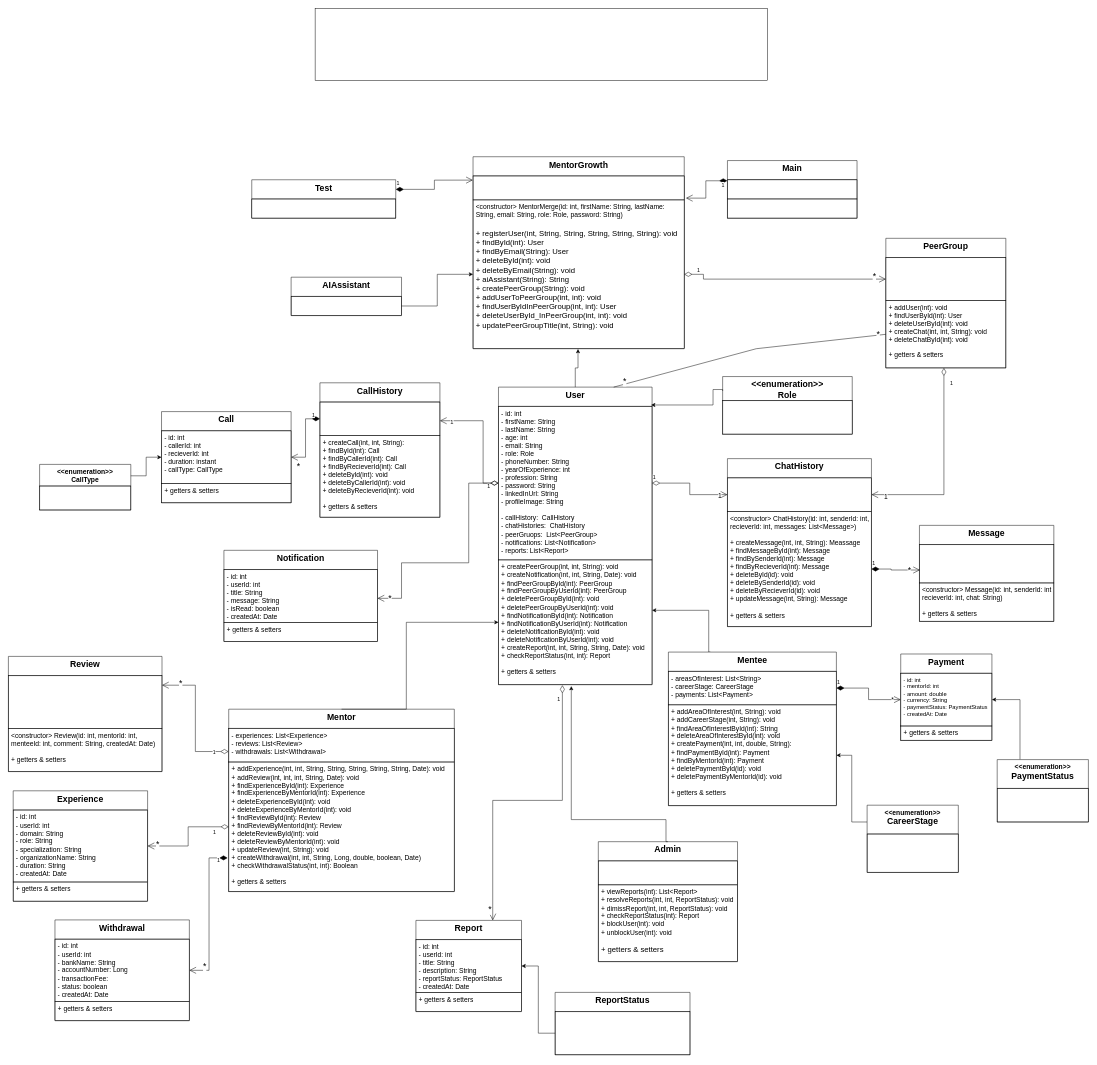
The diagram is 1097 pixels wide and 1065 high, and some of its shapes have lost their labels. Here are the shapes that lost their labels. From the top down, the centre of each, then its label:
At (541,44): "UML DIAGRAM -- MENTOR-GROWTH".
At (578,187): "- List<User> users; - peerGruops: List<PeerGroup>".
At (792,189): "+ mentorGrowth: MentorGrowth".
At (323,208): "+ allTestCases()".
At (792,208): "+ main(String[])".
At (945,279): "- id: int - title: String - users: List<User> - chatHistory: ChatHistory".
At (346,306): "+ askQuestion(String): String".
At (379,419): "- id: int - userId: int - calls: List<Call>".
At (787,417): "ADMIN MENTOR MENTEE".
At (85,498): "AUDIO VIDEO".
At (799,494): "- id: int - userId: int - messages: List<Message>".
At (986,563): "- id: int - senderId: int - recieverId: int - chat: String".
At (85,701): "- id: int - mentorId: int - menteeId: int - comment: String - createdAt: Date".
At (1042,805): "COMPLETED PENDING FAILED".
At (668,872): "- role: String - lastLoginDate: Date".
At (912,853): "STUDENT ENTRY-LEVEL MID-LEVEL SENIOR".
At (622,1033): "OPEN IN_VIEW RESOLVED DISMISSED".
